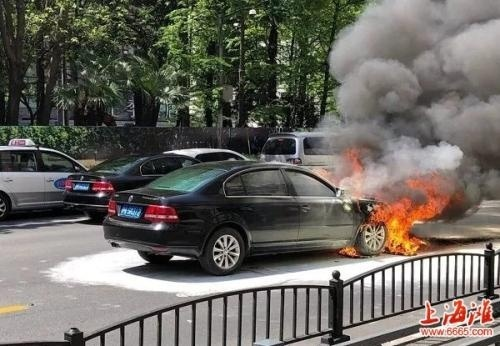fire: (334, 155, 458, 257)
